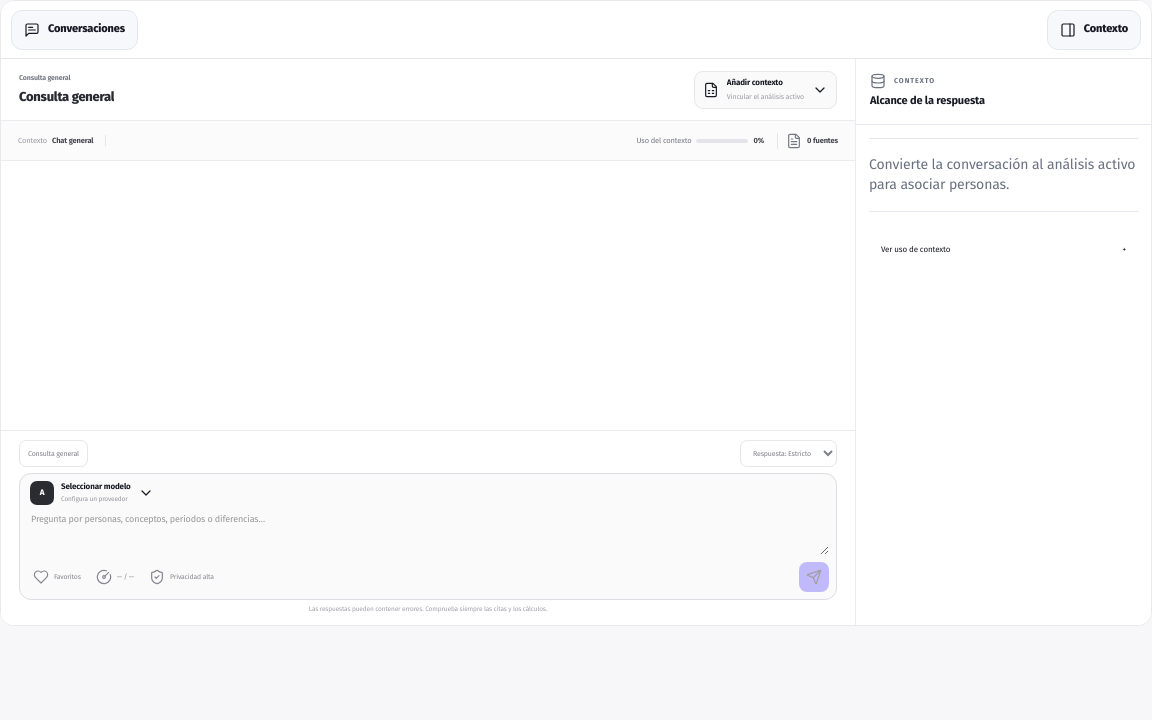
Test: assistant model selector regressions › opens 39 persisted Gemini models without a prior selection or preferences
The width and height of the screenshot is (1152, 720).
Check: the button named "Enviar" is disabled, box [799, 562, 829, 592]
Click the button with aria-label "Modelo de conversación: sin seleccionar" at (92, 493), box [27, 481, 157, 505]
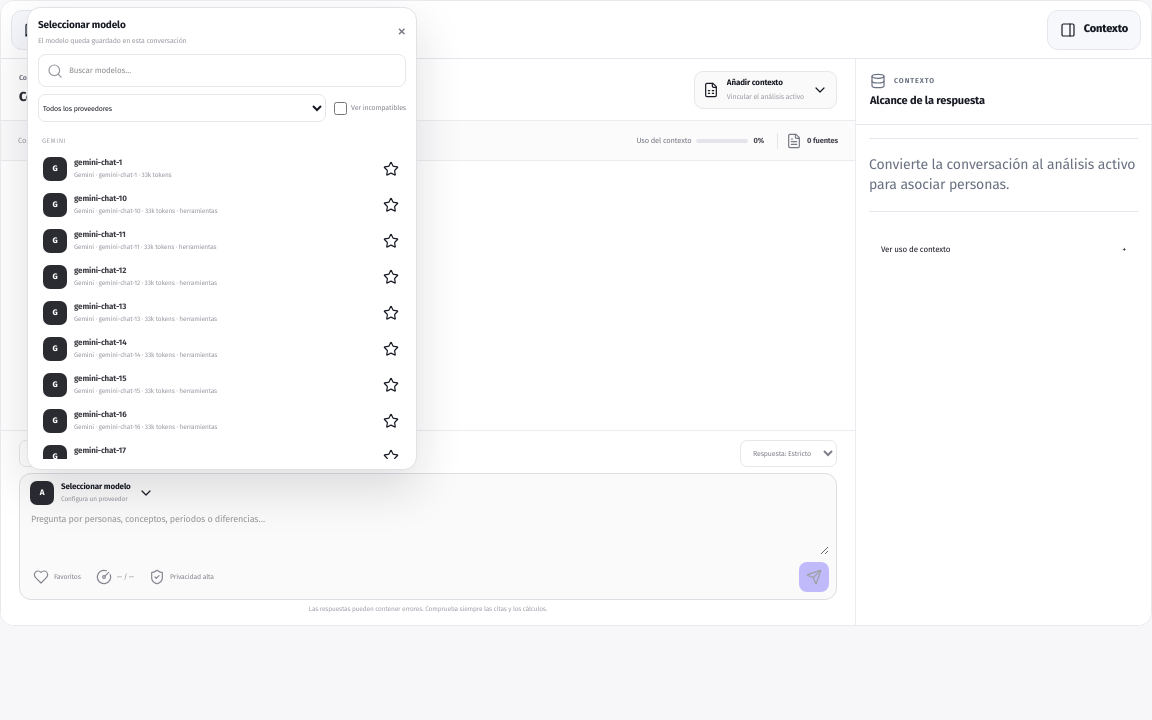
Check: the heading "GEMINI" is shown, box [38, 129, 406, 151]
Check: the button "gemini-chat-1" is enabled, box [38, 151, 376, 187]
Check: the text "gemini-chat-1" is shown 39 times
